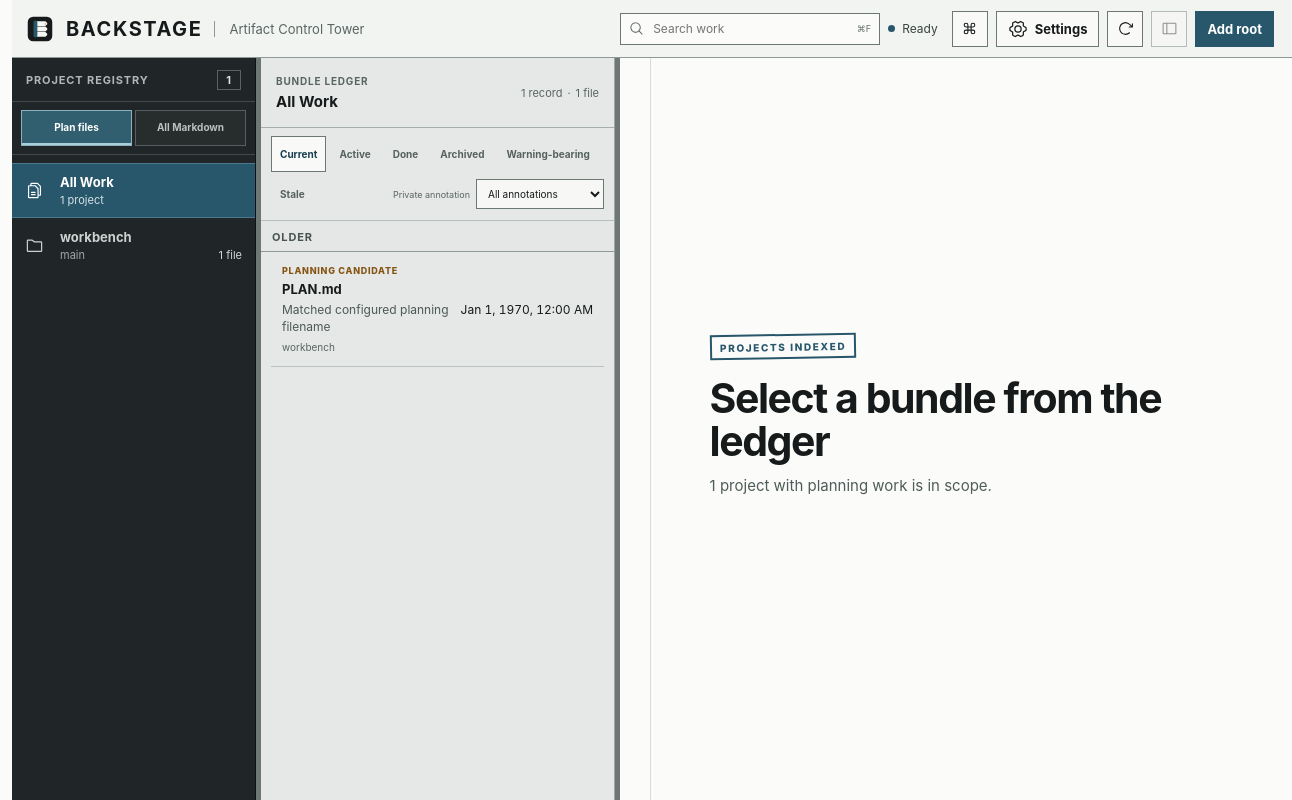
Scenario: App root discovery › keeps planning candidates in the plain source reader
The width and height of the screenshot is (1292, 800).
Click the button "PLAN.md".
click(438, 310)  # box [271,252,604,367]
(page scrolled)
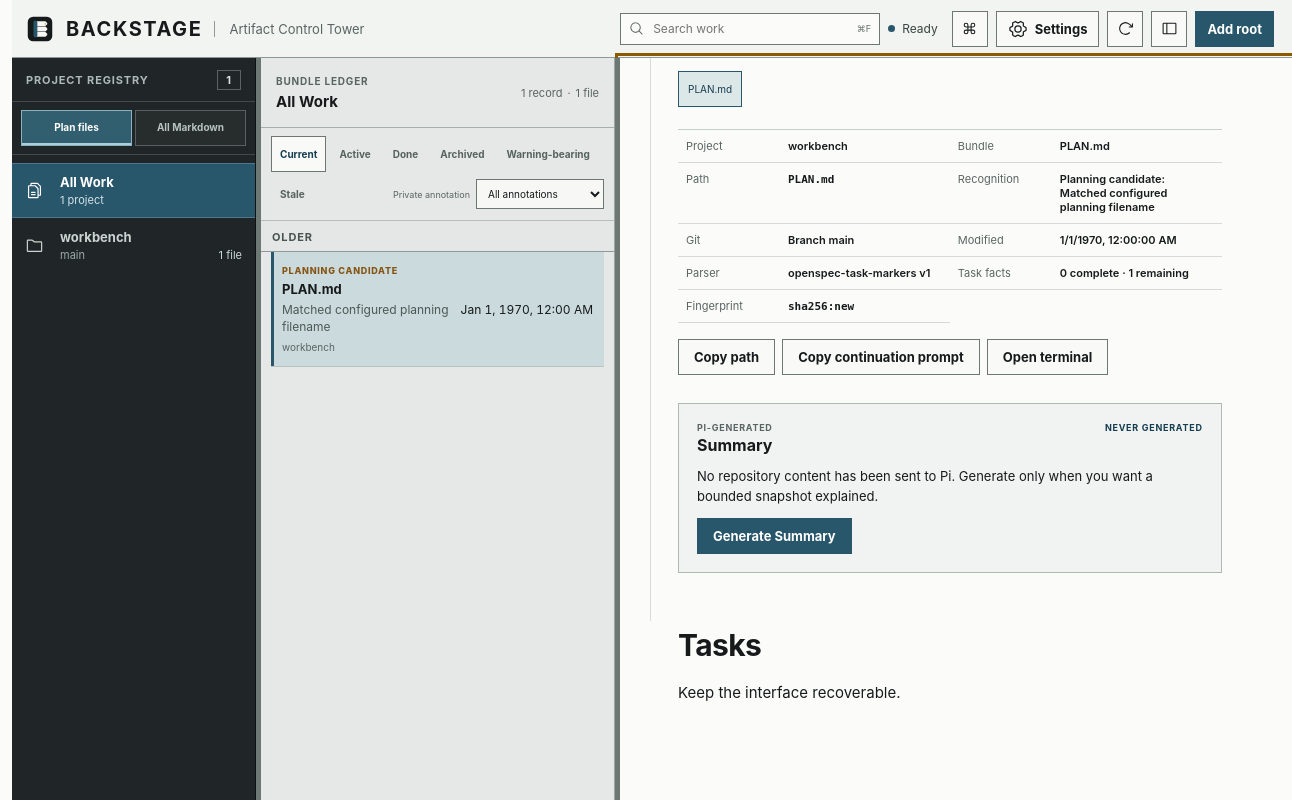
Check: the element named "Rendered artifact Markdown" is shown, box [678,627,900,702]
